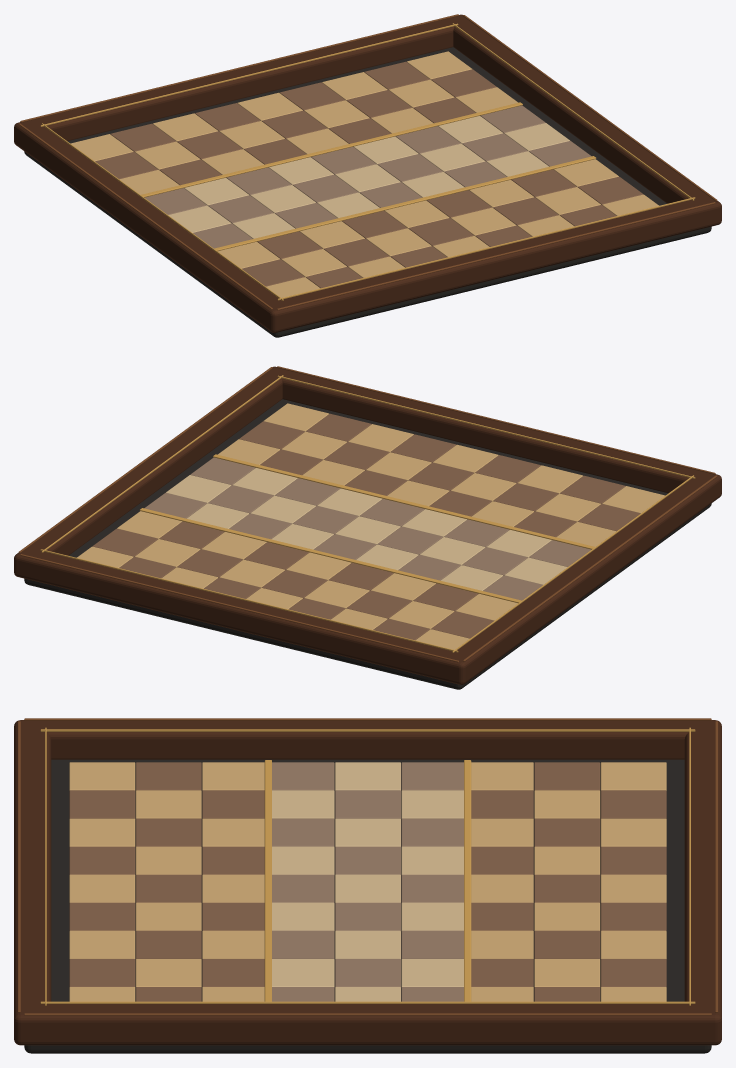
Rendered from board.glb.
3 views of the same model, one above another, from view 1: azimuth 30°, elevation 25°; view 2: azimuth 150°, elevation 25°; view 3: azimuth 270°, elevation 25° (orthographic). The views are drawn at different scales.
Parts seen in each view (by area): view 1: Board frame horizontal, Board frame horizontal.001, Board frame vertical, Board frame vertical.001, Board backing, Neutral field metal border.001, Neutral field metal border, Frame warm edge horizontal, Frame warm edge horizontal.001, Square_1_4, Square_2_7, Square_4_4 (+84 smaller); view 2: Board frame horizontal.001, Board frame horizontal, Board frame vertical, Board frame vertical.001, Board backing, Neutral field metal border, Neutral field metal border.001, Frame warm edge horizontal.001, Frame warm edge horizontal, Square_1_4, Square_2_1, Square_4_4 (+84 smaller); view 3: Board frame vertical.001, Board frame vertical, Board backing, Board frame horizontal, Board frame horizontal.001, Frame warm edge vertical, Frame warm edge vertical.001, Brass inlay vertical, Brass inlay vertical.001, Square_0_0, Square_0_1, Square_0_7 (+84 smaller).
Part boxes in pixels (left/top/right/bottom): Board frame horizontal: left=267, top=196, right=721, bottom=332; Board frame horizontal.001: left=16, top=14, right=470, bottom=141; Board frame vertical: left=14, top=123, right=288, bottom=332; Board frame vertical.001: left=447, top=14, right=721, bottom=220; Board backing: left=24, top=47, right=711, bottom=337; Neutral field metal border.001: left=141, top=102, right=522, bottom=197; Neutral field metal border: left=214, top=156, right=596, bottom=251; Frame warm edge horizontal: left=277, top=202, right=715, bottom=310; Frame warm edge horizontal.001: left=20, top=14, right=458, bottom=122; Square_1_4: left=208, top=195, right=273, bottom=223; Square_2_7: left=177, top=131, right=242, bottom=159; Square_4_4: left=335, top=164, right=400, bottom=192; Board frame horizontal.001: left=14, top=548, right=469, bottom=684; Board frame horizontal: left=266, top=366, right=719, bottom=493; Board frame vertical: left=447, top=471, right=721, bottom=684; Board frame vertical.001: left=14, top=366, right=289, bottom=572; Board backing: left=24, top=399, right=711, bottom=689; Neutral field metal border: left=213, top=454, right=594, bottom=549; Neutral field metal border.001: left=139, top=508, right=521, bottom=603; Frame warm edge horizontal.001: left=20, top=554, right=458, bottom=662; Frame warm edge horizontal: left=277, top=366, right=715, bottom=474; Square_1_4: left=462, top=547, right=527, bottom=575; Square_2_1: left=493, top=483, right=558, bottom=511; Square_4_4: left=335, top=516, right=400, bottom=544; Board frame vertical.001: left=16, top=1004, right=719, bottom=1045; Board frame vertical: left=18, top=720, right=717, bottom=759; Board backing: left=24, top=759, right=711, bottom=1053; Board frame horizontal: left=14, top=720, right=51, bottom=1044; Board frame horizontal.001: left=684, top=720, right=721, bottom=1044; Frame warm edge vertical: left=24, top=718, right=711, bottom=720; Frame warm edge vertical.001: left=24, top=1013, right=711, bottom=1015; Brass inlay vertical: left=40, top=729, right=695, bottom=731; Brass inlay vertical.001: left=40, top=1001, right=695, bottom=1003; Square_0_0: left=69, top=762, right=135, bottom=790; Square_0_1: left=135, top=762, right=201, bottom=790; Square_0_7: left=534, top=762, right=600, bottom=790.
Size of the model in its own units: 10.66 by 0.742 by 10.66.
